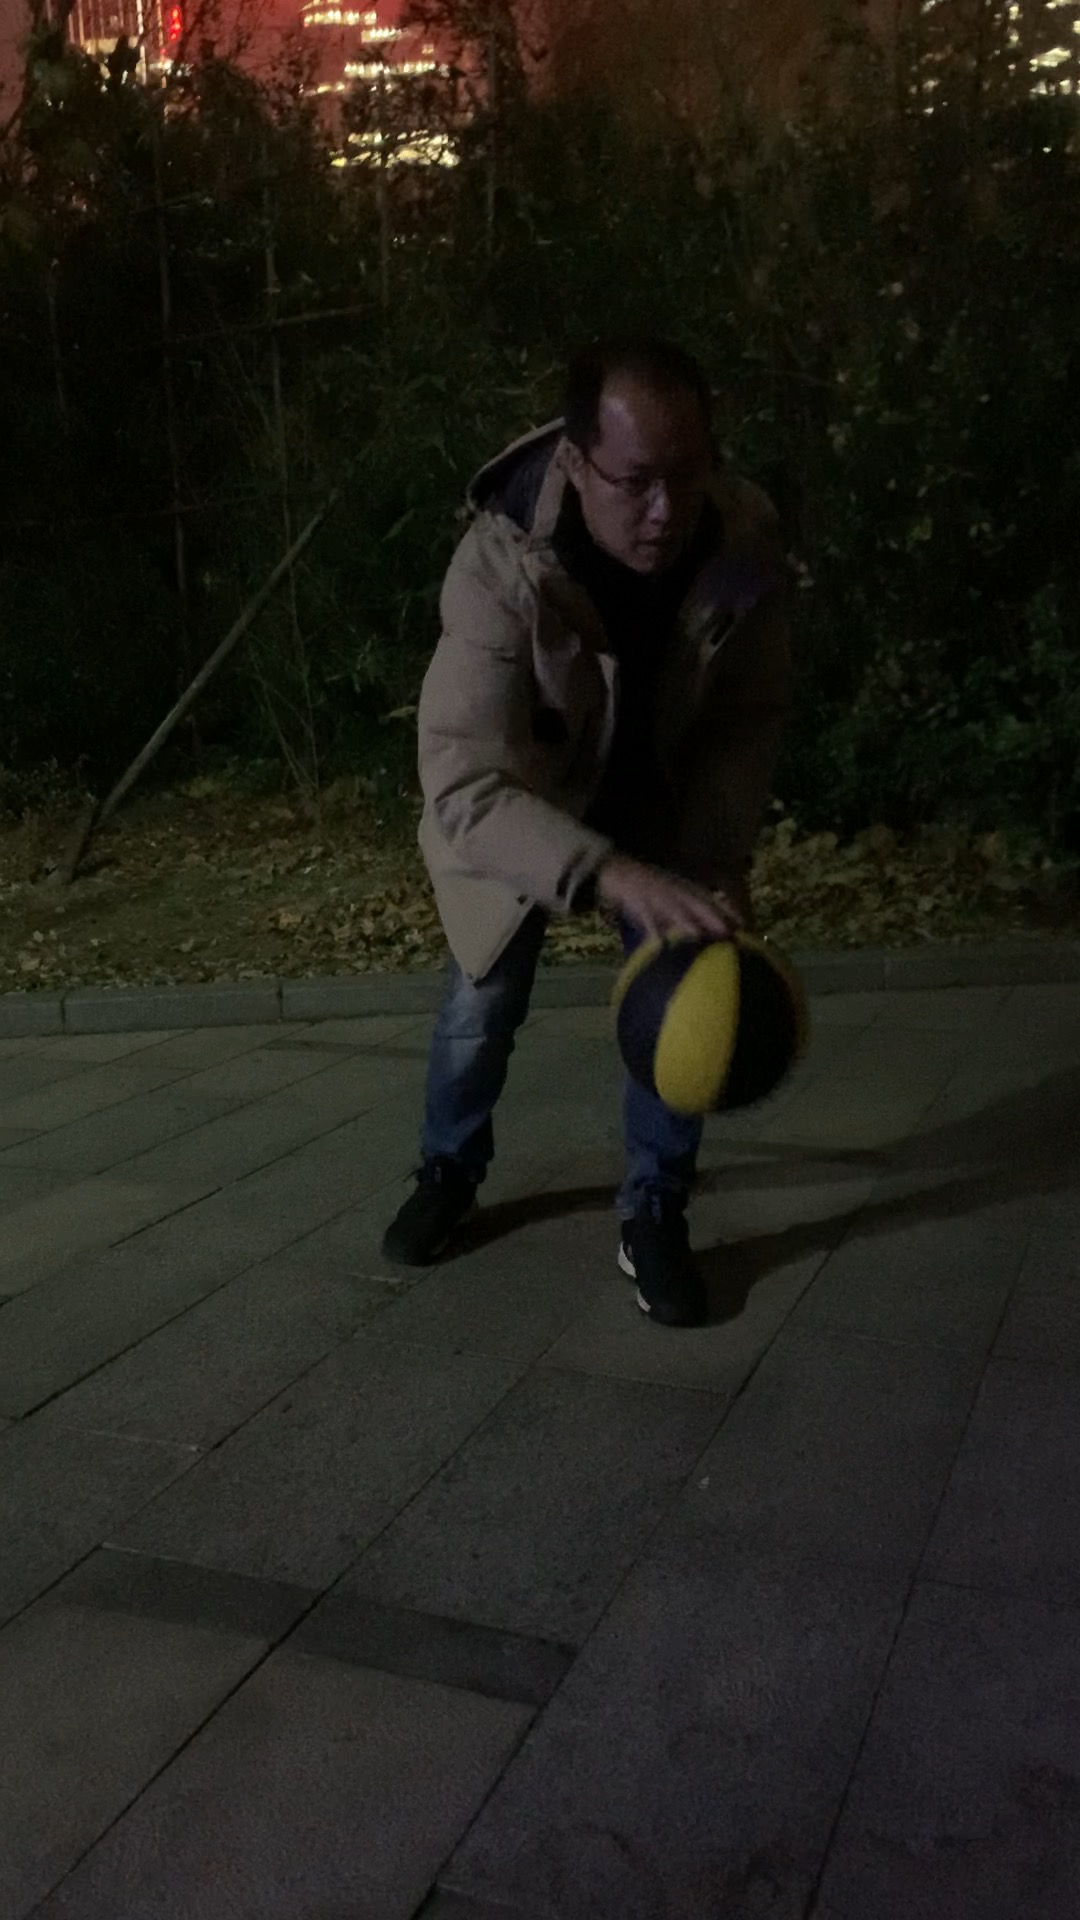ball: (611, 928, 808, 1110)
